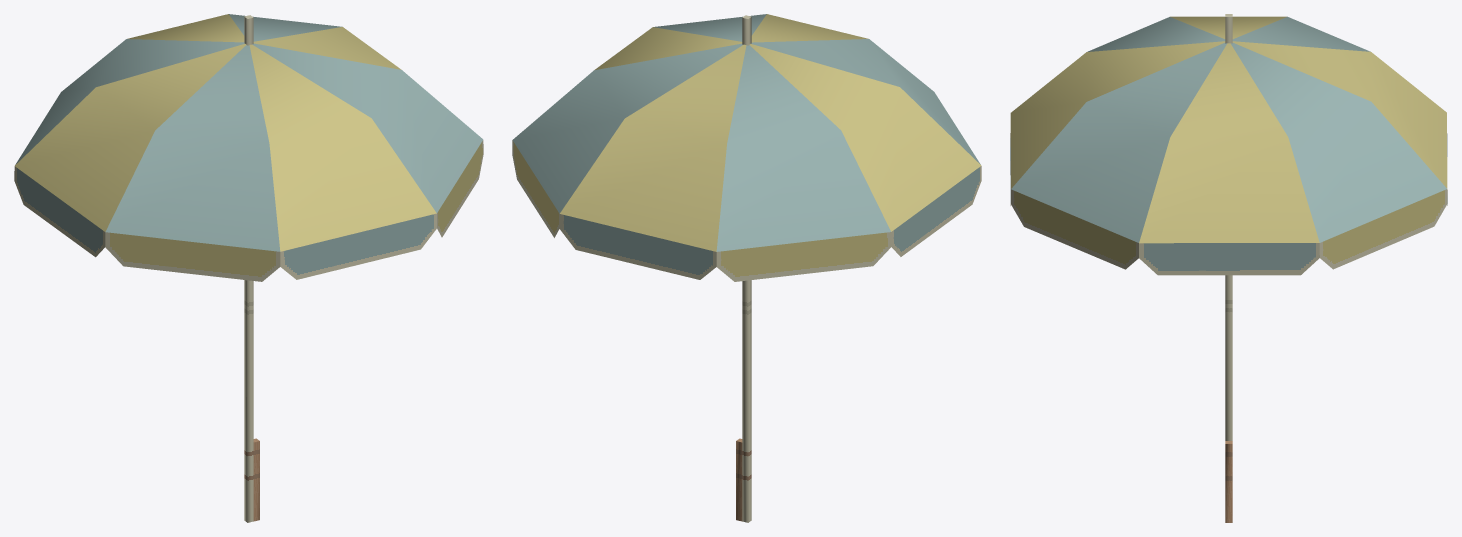
The model's file is 042e_Beach_Umbrella.glb.
3 views of the same model, side by side, from view 1: azimuth 30°, elevation 25°; view 2: azimuth 150°, elevation 25°; view 3: azimuth 270°, elevation 25° (orthographic).
Parts seen in each view (by area): view 1: part_0; view 2: part_0; view 3: part_0.
Boxes of the visible parts, bbox=[...] form: part_0: bbox=[14, 14, 483, 522]; part_0: bbox=[512, 14, 981, 522]; part_0: bbox=[1010, 14, 1447, 522].
Size of the model in its own units: 2.44 by 3.1 by 2.44.
Materials: 1 (1 with a texture image).
